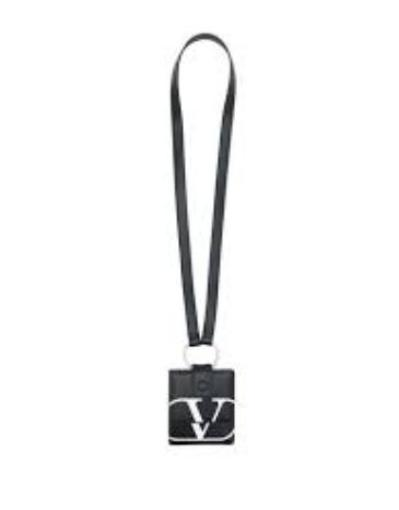VALENTINO: (142, 375, 297, 444)
